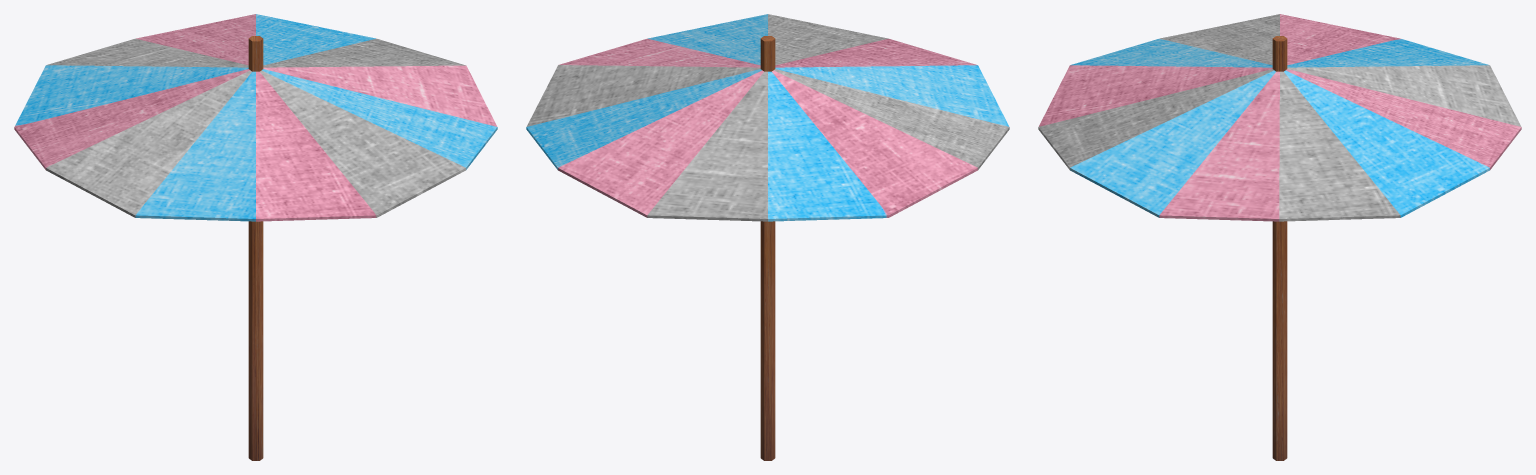
File: parasol.fbx
3 renders of one model, left to right at view 1: azimuth 30°, elevation 25°; view 2: azimuth 150°, elevation 25°; view 3: azimuth 270°, elevation 25°, orthographic.
Parts seen in each view (by area): view 1: Cylinder; view 2: Cylinder; view 3: Cylinder.
Boxes of the visible parts, x1,y1,x2,y2 form: Cylinder: [14, 14, 497, 460]; Cylinder: [526, 14, 1009, 460]; Cylinder: [1038, 14, 1521, 460].
Bounding box in the file's own units: 653 × 623 × 650.
